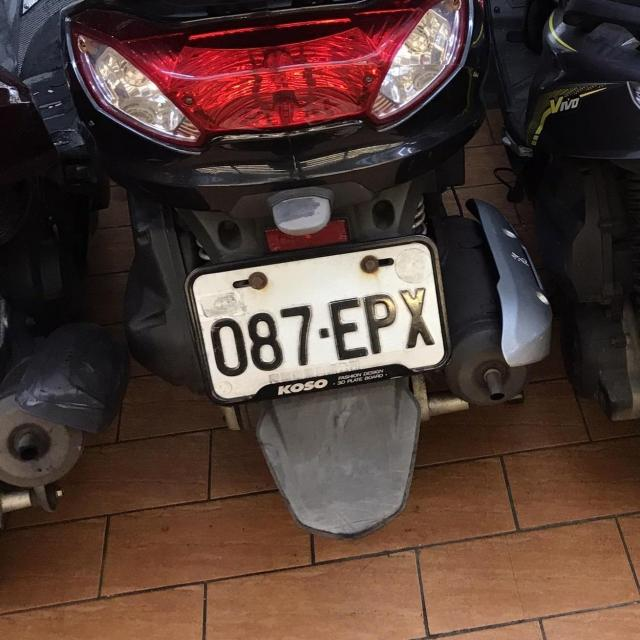W: (186, 236, 456, 408)
